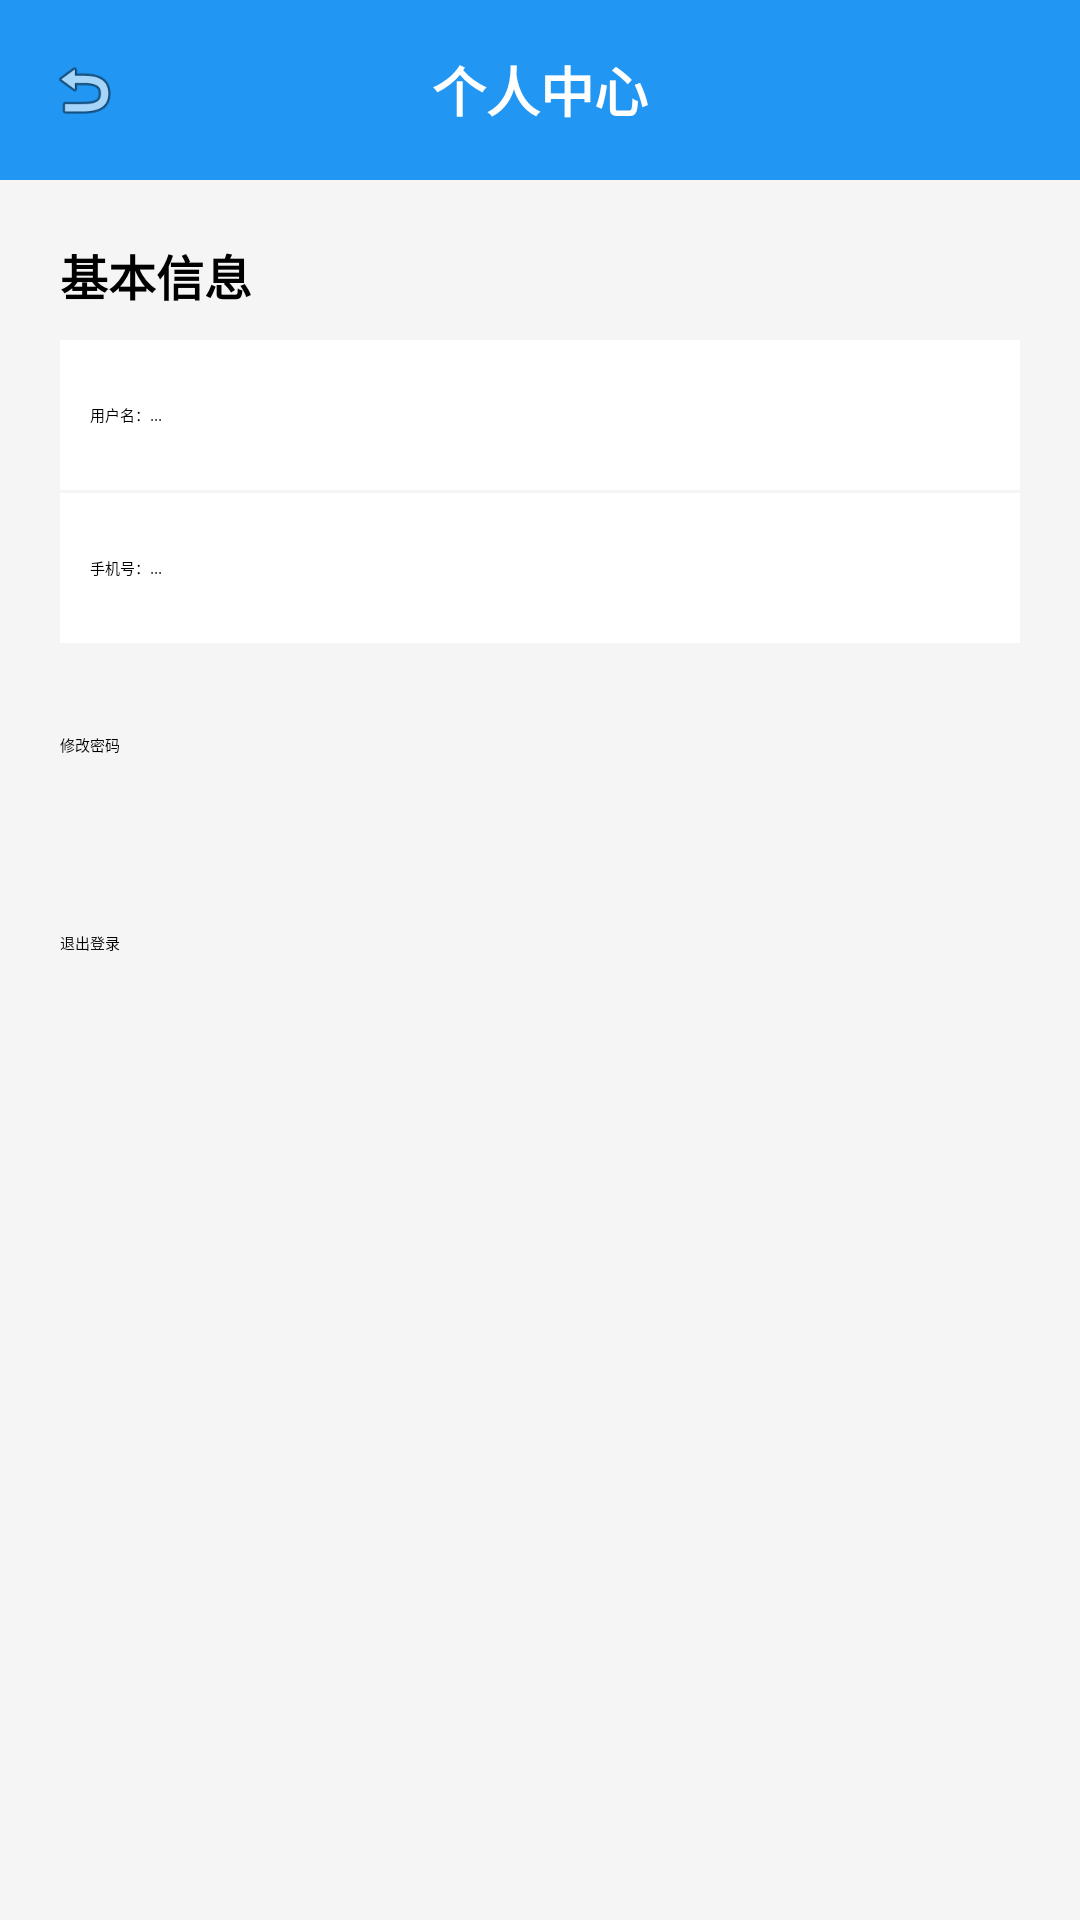

Named icons in this screenshot (1080 × 1920) and their centers, point (x, y):
revert: point (85, 90)
